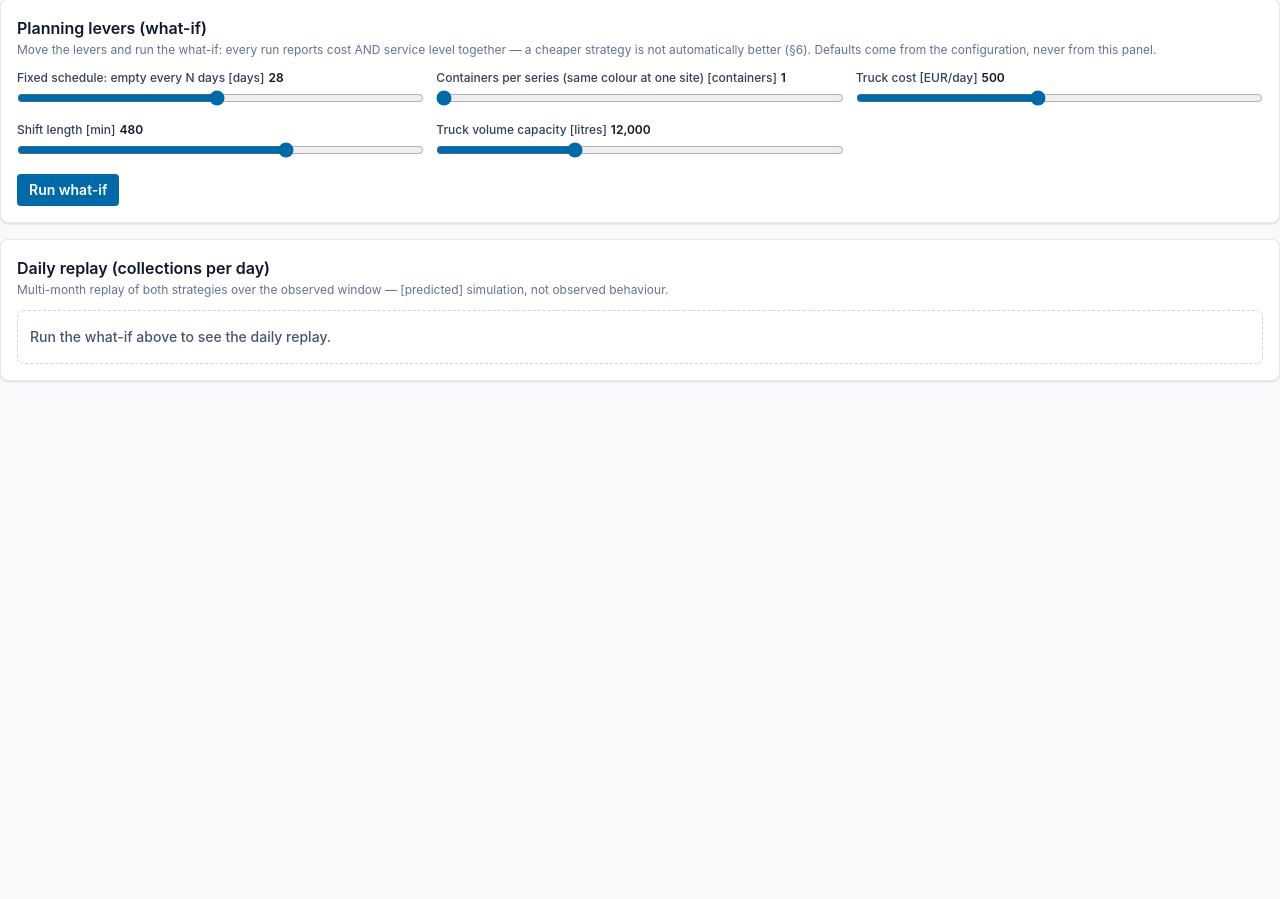
ScenariosPanel — results (§6 cost + service together) › always shows the mega-day model-consequence note and data-basis labels
Click the button with test id "scenarios-run": [68, 190] box [17,174,120,206]
(page scrolled)
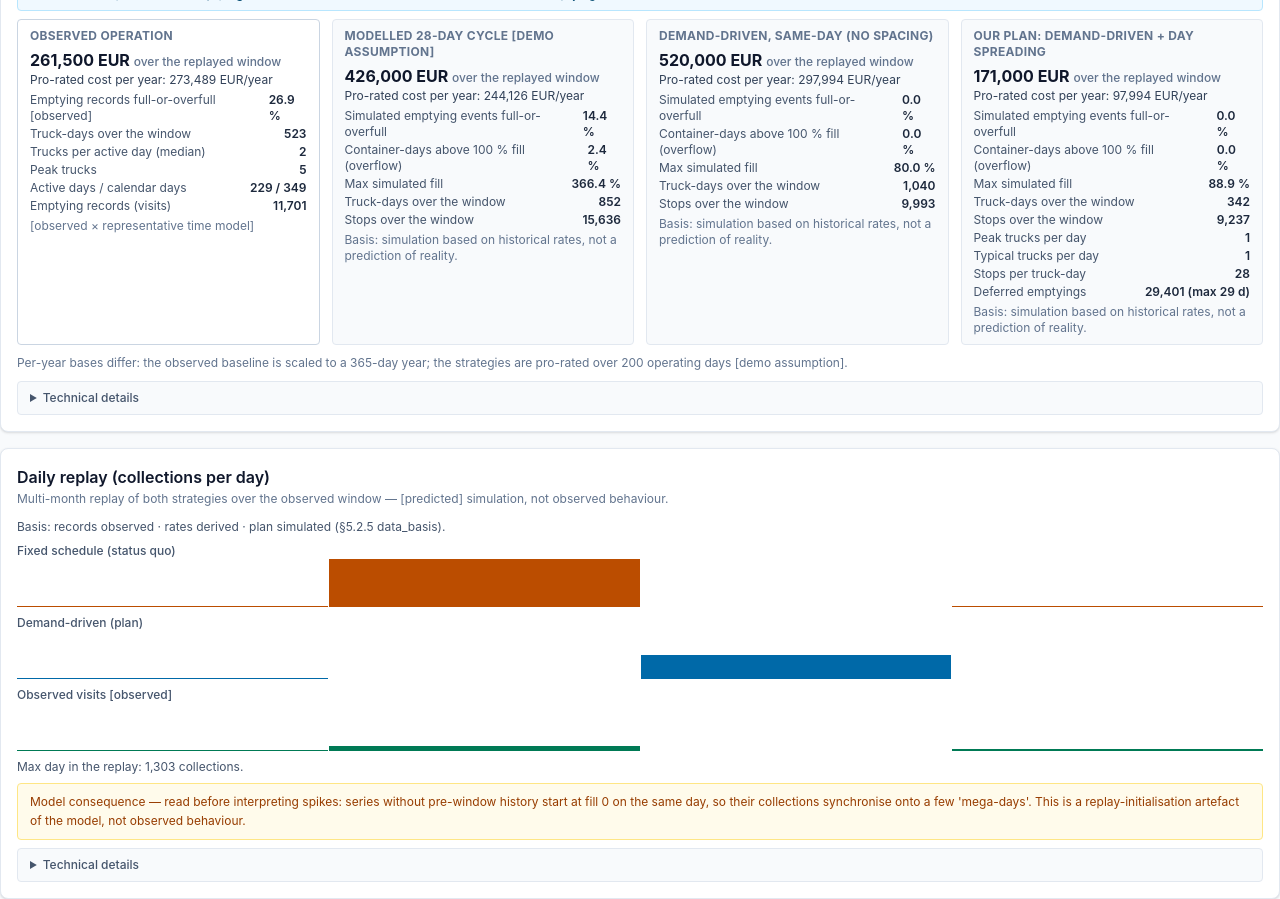
Now the text with test id "timeline-megaday-note" shows "Model consequence", box [30,794,1239,828]
Now the text with test id "timeline-megaday-note" shows "mega-days", box [30,794,1239,828]
Now the text with test id "timeline-basis" shows "records observed", box [17,518,445,534]
